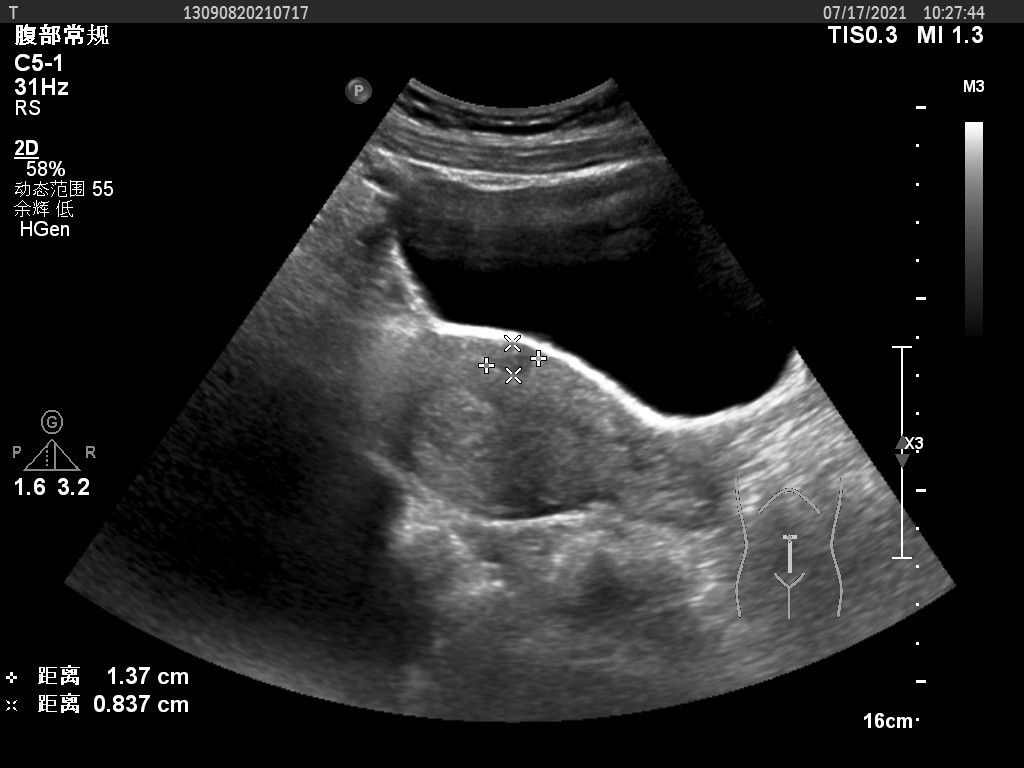肌瘤: (486, 343, 546, 377)
